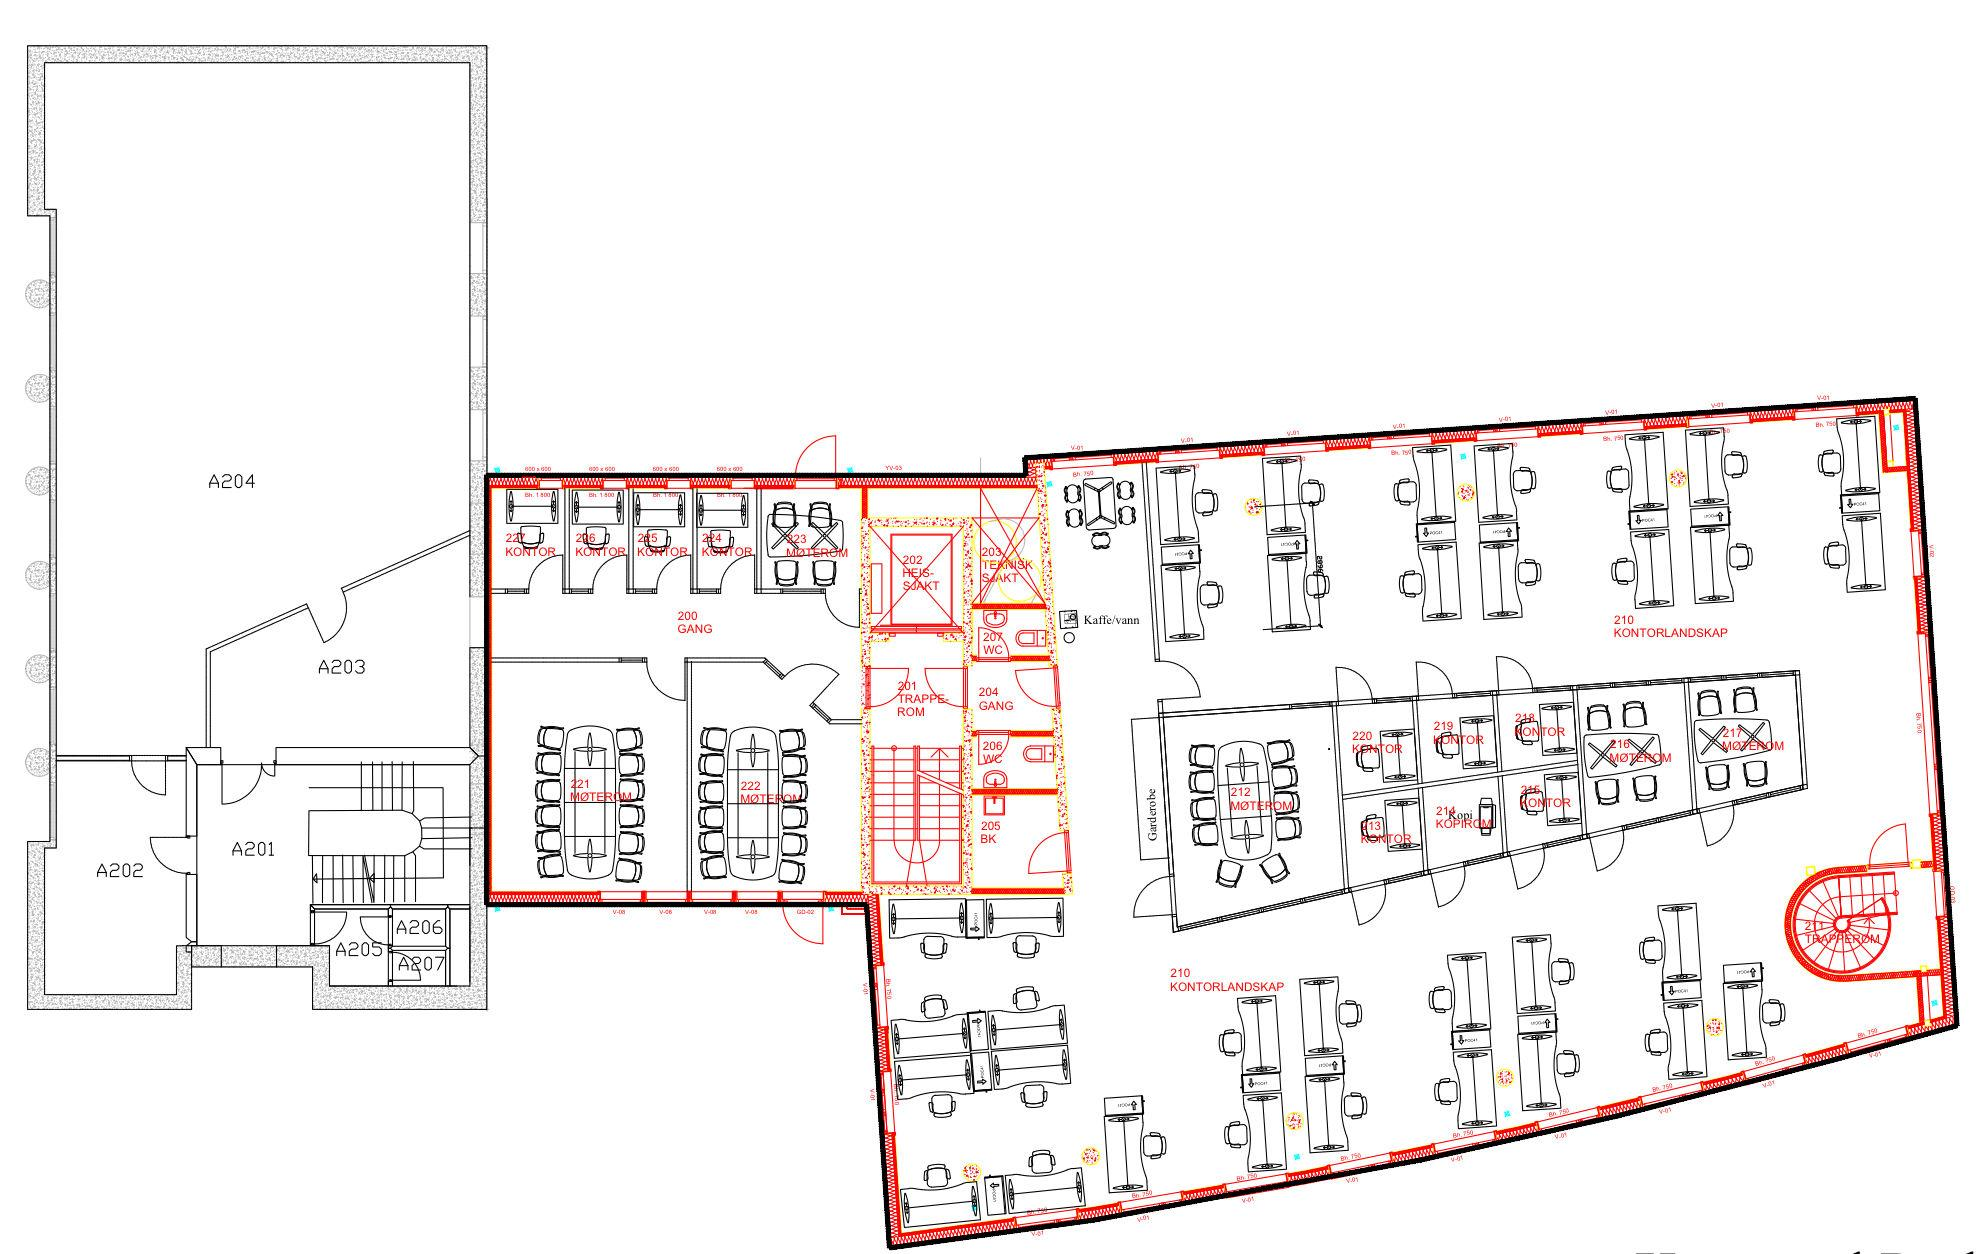room: (192, 754, 477, 997), (488, 659, 689, 894), (687, 659, 868, 897), (1158, 691, 1344, 906), (38, 757, 185, 1001), (1574, 676, 1692, 841), (1687, 667, 1806, 812), (760, 485, 863, 592), (970, 790, 1067, 891), (490, 487, 566, 592), (1339, 792, 1424, 883), (1334, 698, 1419, 787), (1421, 782, 1505, 870), (1414, 695, 1499, 776), (695, 485, 758, 592), (631, 487, 696, 591), (1500, 770, 1581, 852), (970, 657, 1057, 734), (567, 487, 631, 591), (312, 907, 390, 990), (1494, 686, 1578, 761), (970, 732, 1063, 792), (388, 948, 448, 988), (390, 907, 448, 948)
